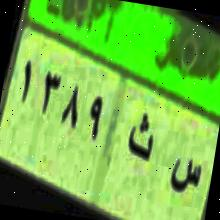1: (13, 54, 42, 120)
3: (35, 64, 63, 122)
8: (57, 84, 85, 143)
9: (82, 87, 110, 146)
seen: (160, 148, 206, 208)
thaa: (122, 107, 158, 169)
